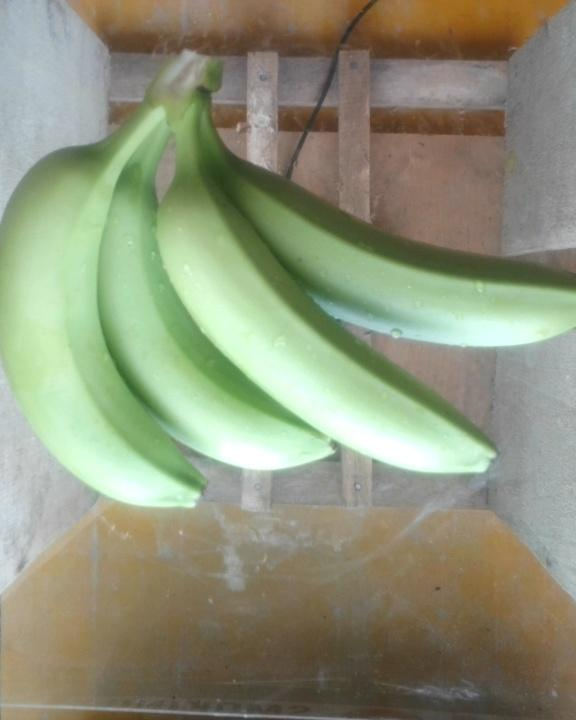SPOT: (1, 27, 576, 517)
